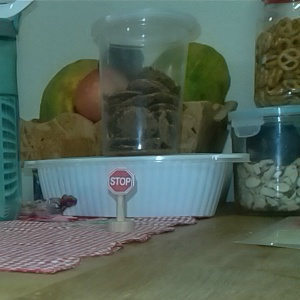stop sign: (104, 164, 139, 233)
